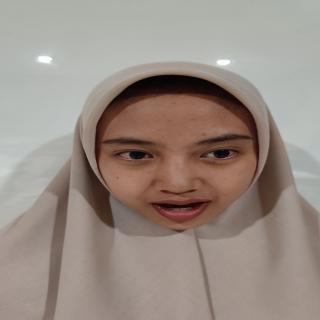Takut: (89, 78, 282, 237)
